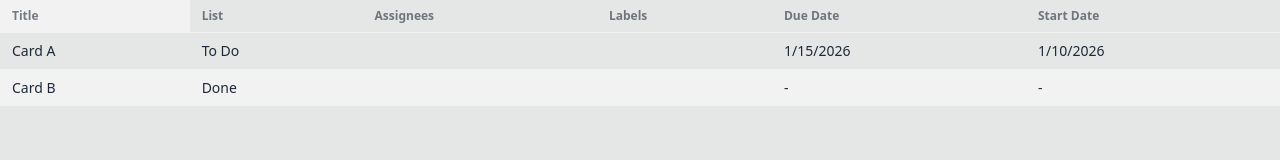
Test: TableView › should enable inline editing on title double click
This screenshot has width=1280, height=160.
Double-click the text "Card A": x=34, y=50 [0,32,190,70]
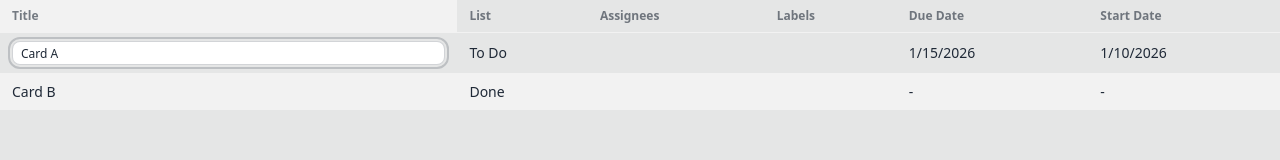
Expected: the field showing "Card A" is shown, [12,41,445,65]
